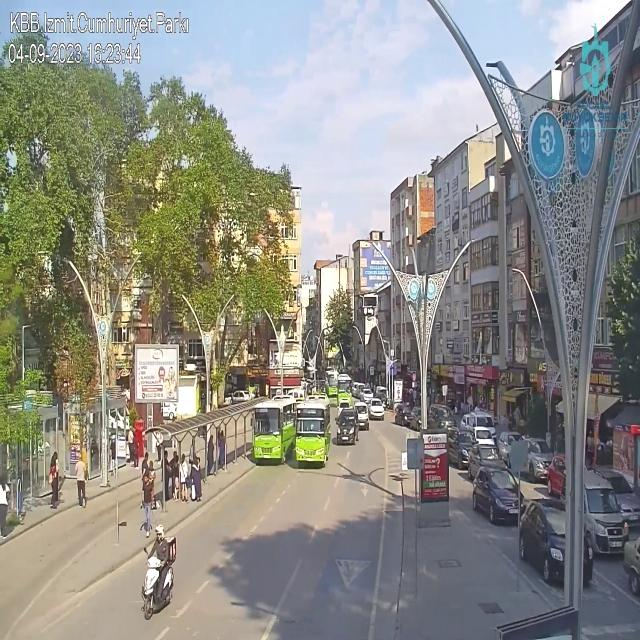Bus: (247, 396, 295, 462), (296, 398, 332, 466)
Car: (335, 407, 359, 443), (356, 401, 370, 430)
Cycle: (142, 522, 176, 620)
